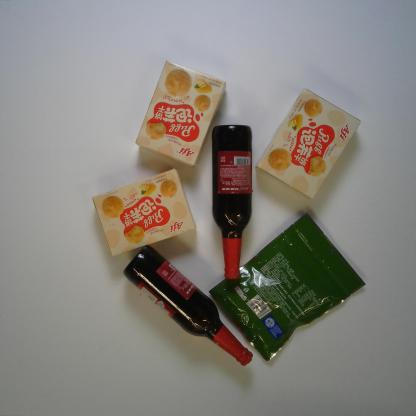Alcohol: (122, 245, 254, 367), (211, 124, 254, 282)
Dessert: (255, 86, 362, 200), (133, 60, 226, 168), (92, 169, 198, 257)
Dried Fruit: (207, 213, 366, 362)
